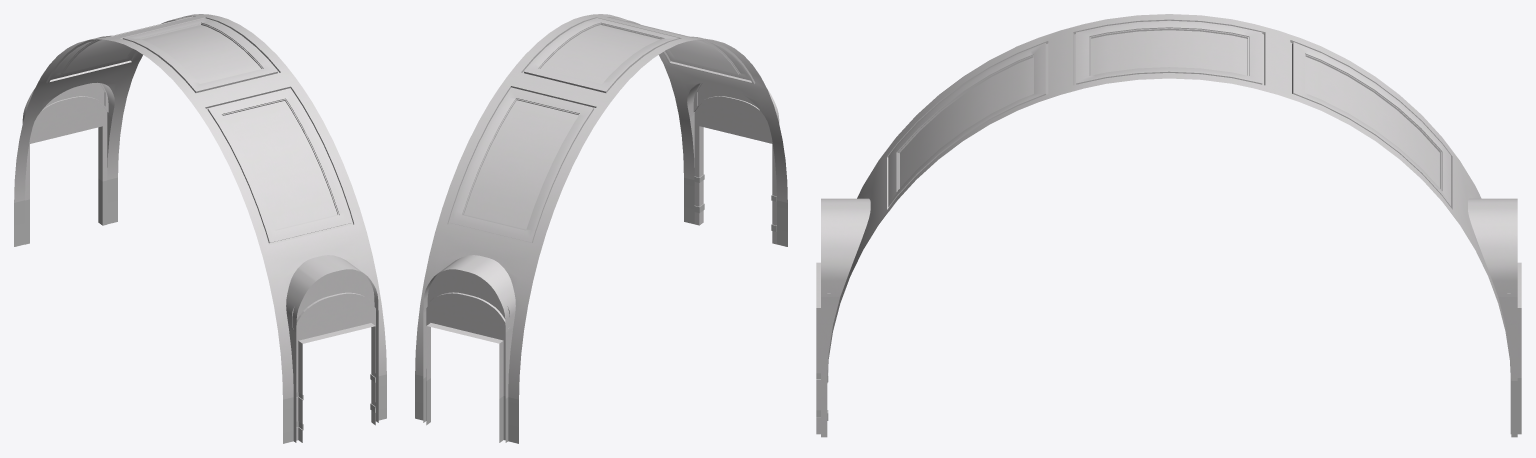
File: SM_Ceiling_CrossingHall.fbx
3 renders of one model, left to right at view 1: azimuth 30°, elevation 25°; view 2: azimuth 150°, elevation 25°; view 3: azimuth 270°, elevation 25°, orthographic. The views are drawn at different scales.
Visible parts, largest first — view 1: SM_Ceiling_CrossingHall; view 2: SM_Ceiling_CrossingHall; view 3: SM_Ceiling_CrossingHall.
Boxes of the visible parts, left/top/right/bottom form: SM_Ceiling_CrossingHall: left=14, top=14, right=386, bottom=443; SM_Ceiling_CrossingHall: left=415, top=14, right=787, bottom=443; SM_Ceiling_CrossingHall: left=816, top=14, right=1521, bottom=437.
Bounding box in the file's own units: 287 × 1325 × 757.
